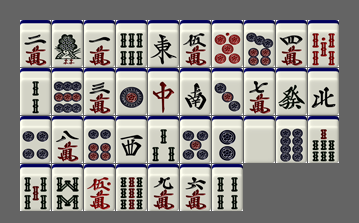0m: (84, 164, 115, 211)
0p: (212, 20, 243, 67)
0s: (308, 20, 339, 67)
1m: (84, 20, 115, 67)
1p: (116, 68, 147, 115)
1s: (52, 20, 83, 67)
1z: (148, 20, 179, 67)
2m: (20, 20, 51, 67)
2p: (212, 116, 243, 163)
2s: (20, 68, 51, 115)
2z: (180, 68, 211, 115)
3m: (84, 68, 115, 115)
3p: (212, 68, 243, 115)
3s: (148, 116, 179, 163)
3z: (116, 116, 147, 163)
4m: (276, 20, 307, 67)
4p: (20, 116, 51, 163)
4s: (212, 164, 243, 211)
4z: (308, 68, 339, 115)
5m: (180, 20, 211, 67)
5p: (180, 116, 211, 163)
5s: (20, 164, 51, 211)
5z: (244, 116, 275, 163)
6m: (180, 164, 211, 211)
6p: (84, 116, 115, 163)
6s: (116, 20, 147, 67)
6z: (276, 68, 307, 115)
7m: (244, 68, 275, 115)
7p: (244, 20, 275, 67)
7s: (308, 116, 339, 163)
7z: (148, 68, 179, 115)
8m: (52, 116, 83, 163)
8p: (276, 116, 307, 163)
8s: (52, 164, 83, 211)
9m: (148, 164, 179, 211)
9p: (52, 68, 83, 115)
9s: (116, 164, 147, 211)
